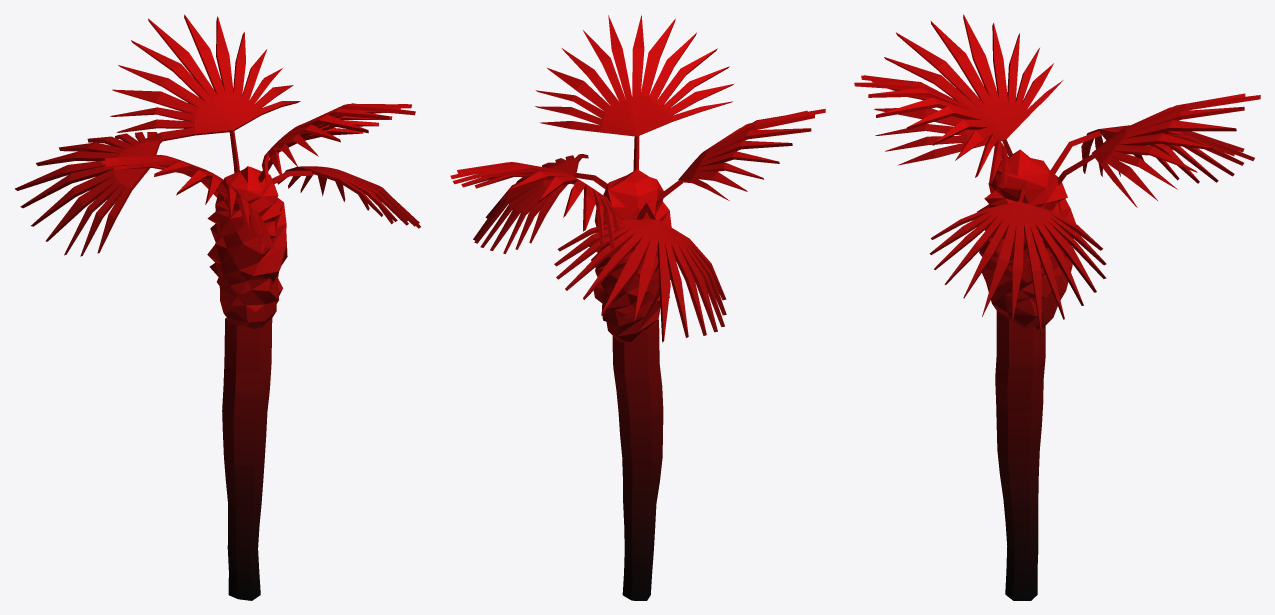
Rendered from TreeWindmill03.fbx.
3 views of the same model, side by side, from view 1: azimuth 30°, elevation 25°; view 2: azimuth 150°, elevation 25°; view 3: azimuth 270°, elevation 25° (orthographic). The views are drawn at different scales.
Visible parts, largest first — view 1: TreeWindmill03_LOD0; view 2: TreeWindmill03_LOD0; view 3: TreeWindmill03_LOD0.
Boxes of the visible parts, x1=… form: TreeWindmill03_LOD0: x1=15, y1=14, x2=420, y2=600; TreeWindmill03_LOD0: x1=450, y1=15, x2=825, y2=600; TreeWindmill03_LOD0: x1=854, y1=14, x2=1260, y2=600.
Size of what is drawn, in the model's own units: 379 by 611 by 419.
